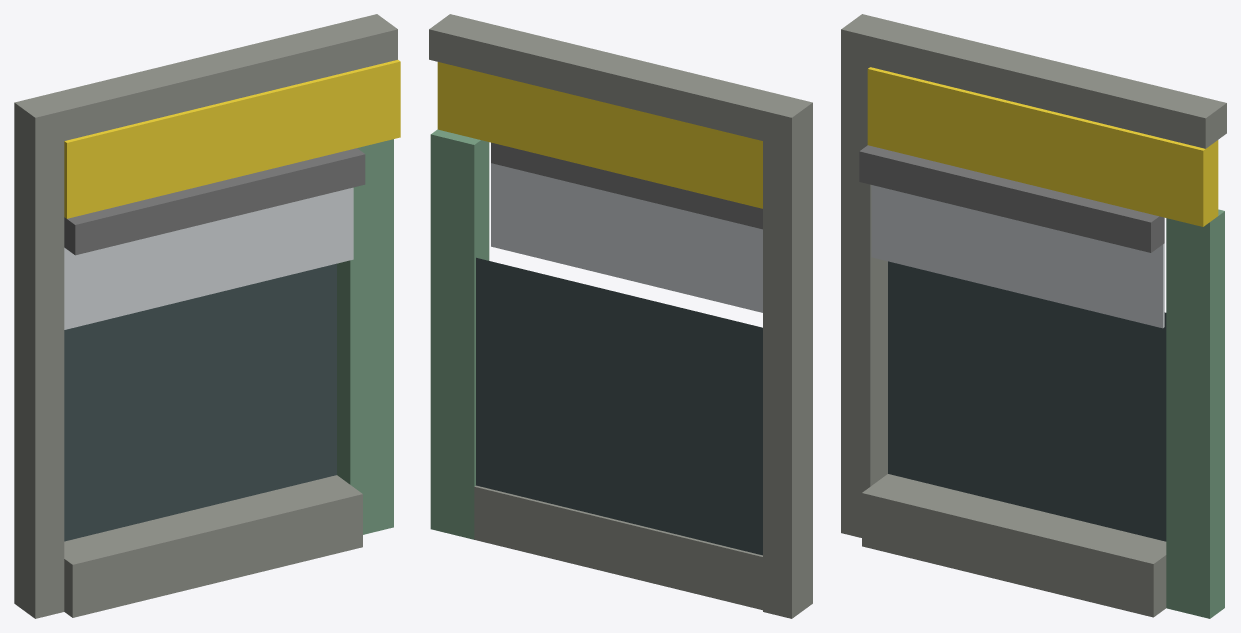
3 renders of one model, left to right at view 1: azimuth 30°, elevation 25°; view 2: azimuth 150°, elevation 25°; view 3: azimuth 330°, elevation 25°, orthographic.
Parts seen in each view (by area): view 1: a2019/0/base-w1; view 2: a2019/0/base-w1; view 3: a2019/0/base-w1.
Boxes of the visible parts, x1,y1,x2,y2 form: a2019/0/base-w1: [14, 14, 400, 618]; a2019/0/base-w1: [429, 14, 812, 618]; a2019/0/base-w1: [841, 14, 1226, 618].
Size of the model in its own units: 2.5 by 3.3 by 0.38.
